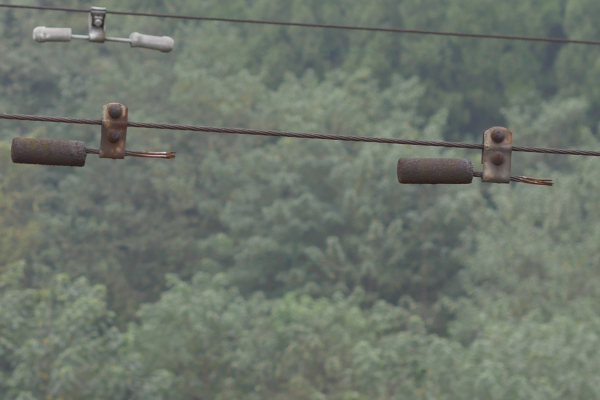damper: (28, 5, 175, 52)
damper_defect: (8, 96, 182, 169), (389, 120, 558, 190)
